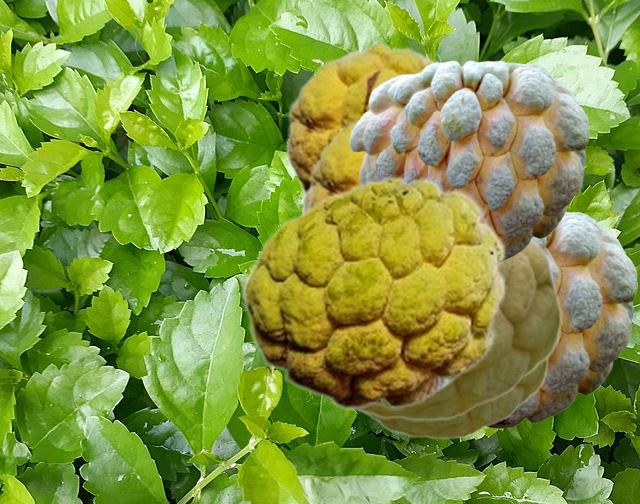atis: (241, 175, 506, 409), (300, 185, 561, 420), (349, 60, 588, 259), (491, 210, 636, 427), (284, 41, 445, 195), (365, 361, 547, 438), (305, 115, 363, 207)
